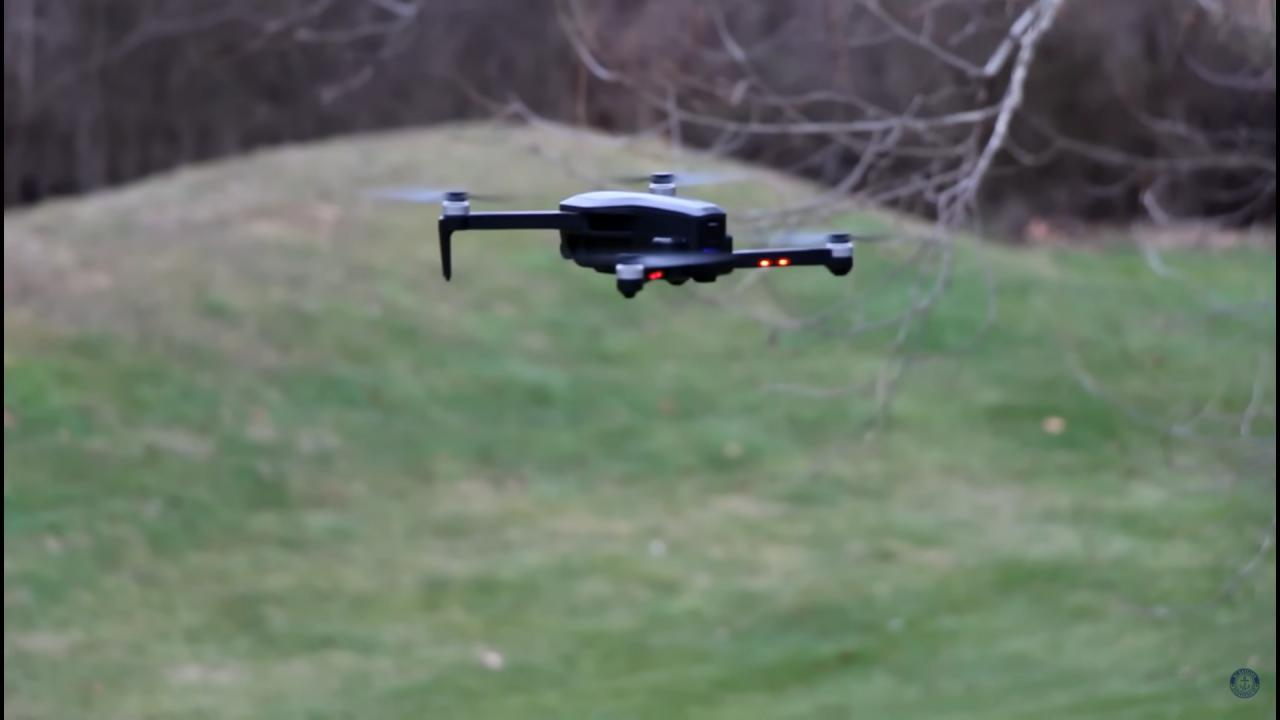Drone: (299, 150, 929, 305)
